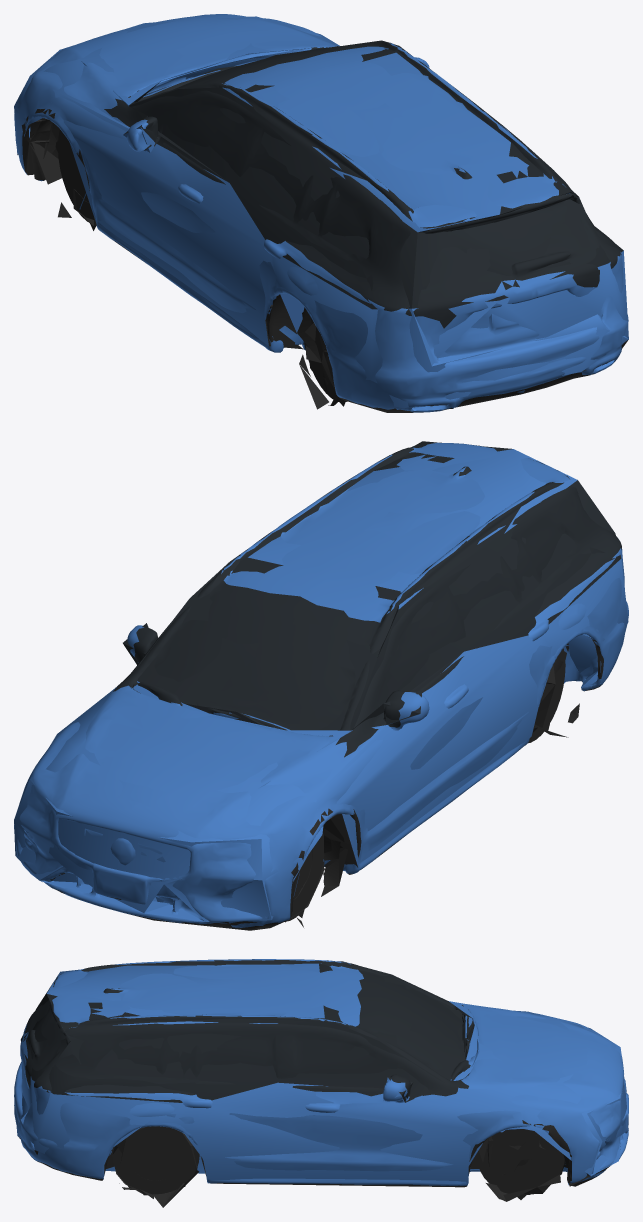
The model's file is volvo-v60.glb.
The picture shows the model from 3 angles, top to bottom: view 1: azimuth 30°, elevation 25°; view 2: azimuth 150°, elevation 25°; view 3: azimuth 270°, elevation 25°; orthographic projection. The views are drawn at different scales.
Parts seen in each view (by area): view 1: body, far; view 2: body, far; view 3: body, far.
Part boxes in pixels (x1,y1,x2,y2): body: [14, 14, 628, 412]; far: [14, 16, 628, 408]; body: [14, 442, 628, 930]; far: [14, 441, 628, 921]; body: [14, 959, 628, 1207]; far: [14, 961, 626, 1199].
Size of the model in its own units: 2.03 by 1.52 by 4.83.
